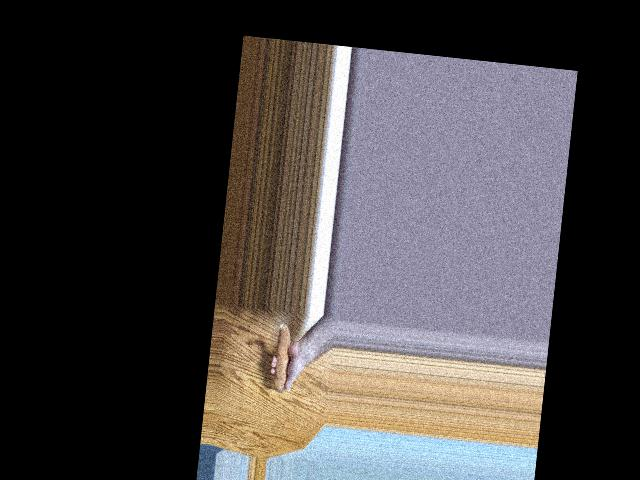sweet_potato: (271, 322, 299, 394)
